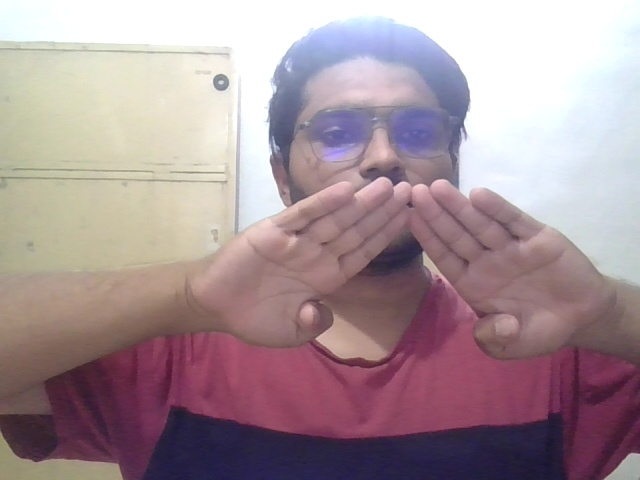thankyou: (195, 175, 584, 362)
